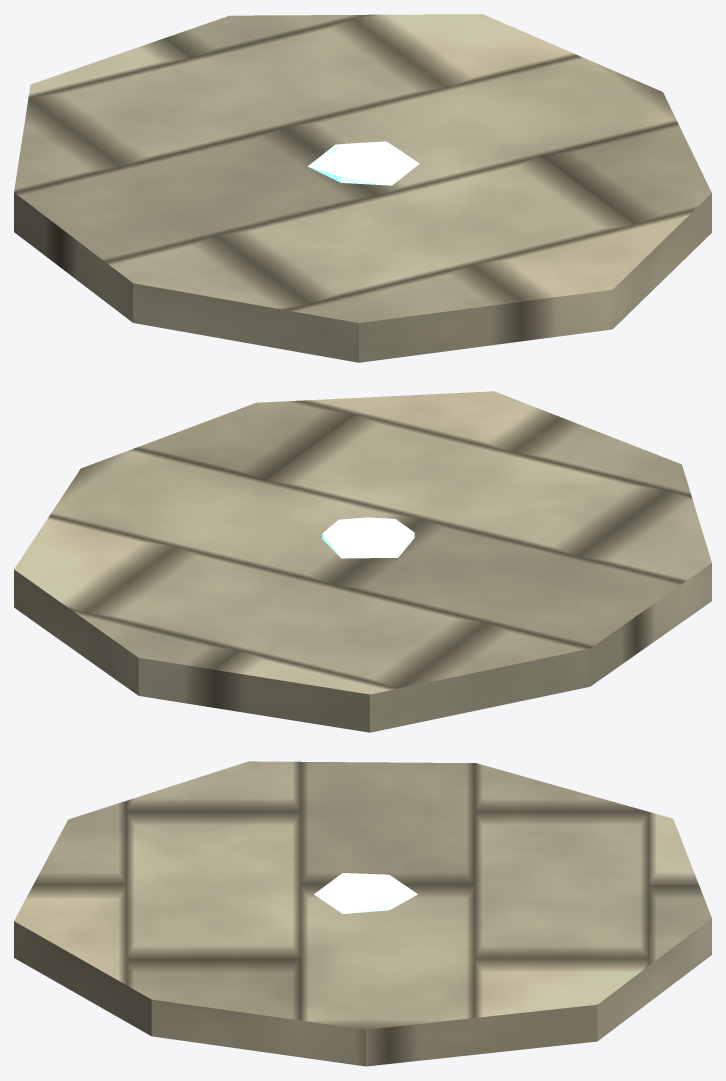
File: path_slab_cloud_b.glb
3 views of the same model, one above another, from view 1: azimuth 30°, elevation 25°; view 2: azimuth 150°, elevation 25°; view 3: azimuth 270°, elevation 25° (orthographic). The views are drawn at different scales.
Parts seen in each view (by area): view 1: path_slab_cloud_b; view 2: path_slab_cloud_b; view 3: path_slab_cloud_b.
Boxes of the visible parts, left/top/right/bottom form: path_slab_cloud_b: left=14, top=14, right=711, bottom=362; path_slab_cloud_b: left=14, top=391, right=711, bottom=732; path_slab_cloud_b: left=14, top=761, right=711, bottom=1066.
Bounding box in the file's own units: 1.09 × 0.087 × 1.2.
2 materials, 1 textured.
